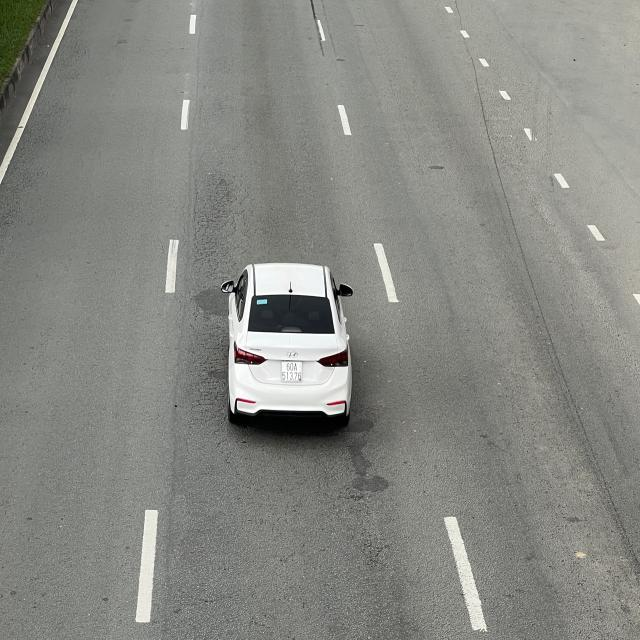car: (223, 261, 354, 430)
